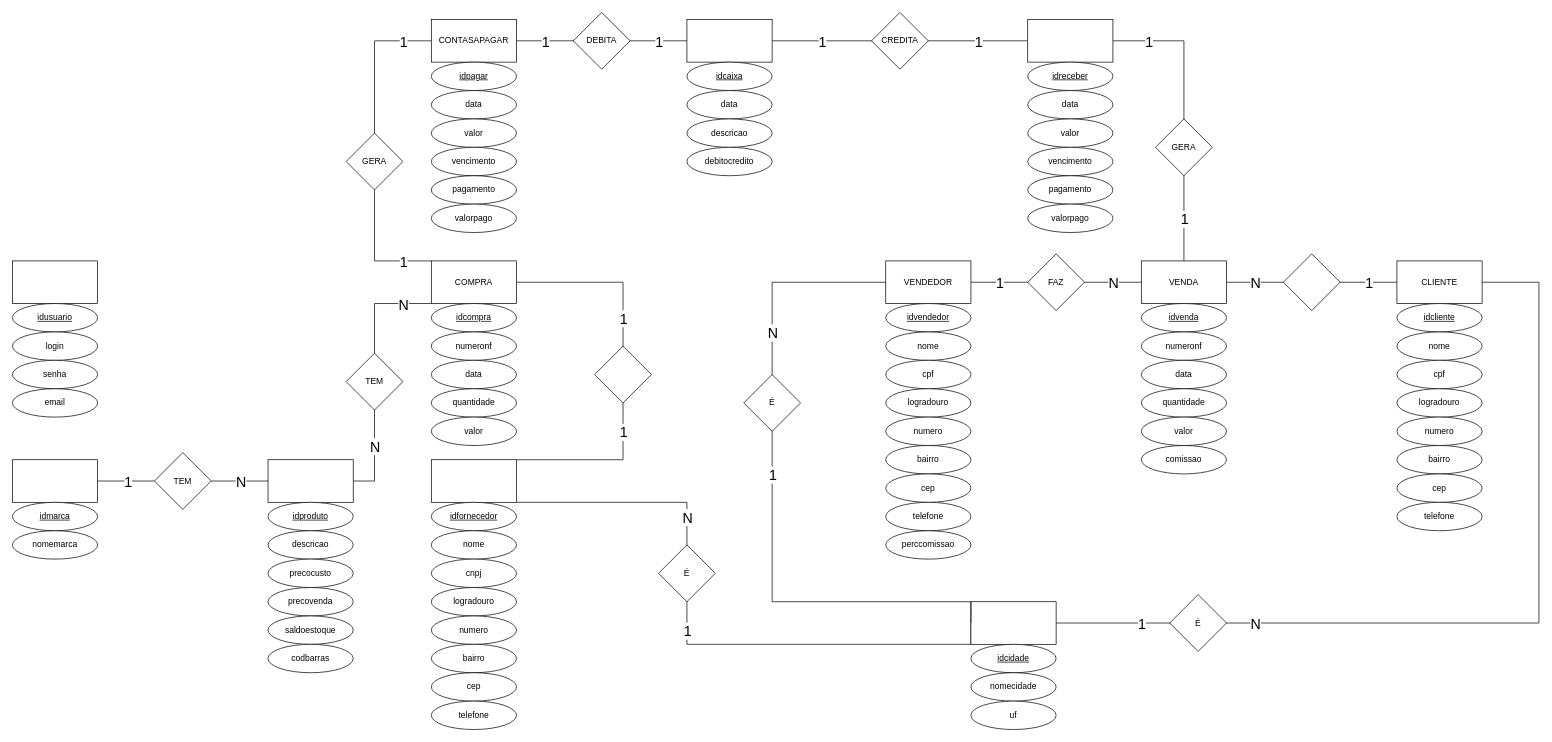
Image size: 1552x742. Some labels were removed from this diagram. The box of each missing label's shape, as (x1, y1, x2, y2) in pixels:
CAIXA: (686, 19, 772, 62)
CIDADE: (970, 601, 1056, 644)
CONTASARECEBER: (1027, 19, 1113, 62)
FORNECEDOR: (431, 459, 517, 502)
MARCA: (12, 459, 98, 502)
PRODUTO: (267, 459, 353, 502)
USUARIOS: (12, 260, 98, 304)
